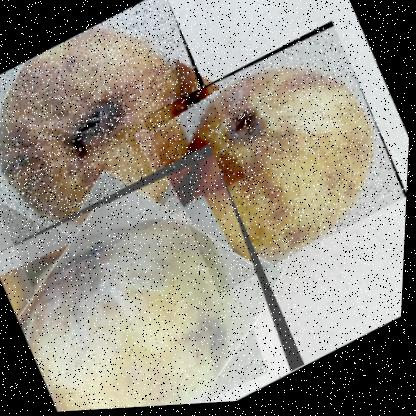guava_rotten: (0, 140, 317, 415), (136, 20, 414, 301), (0, 0, 254, 290)
